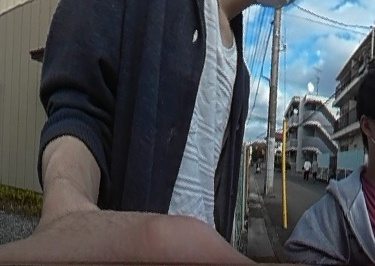person: (301, 156, 310, 176), (310, 158, 318, 179)
